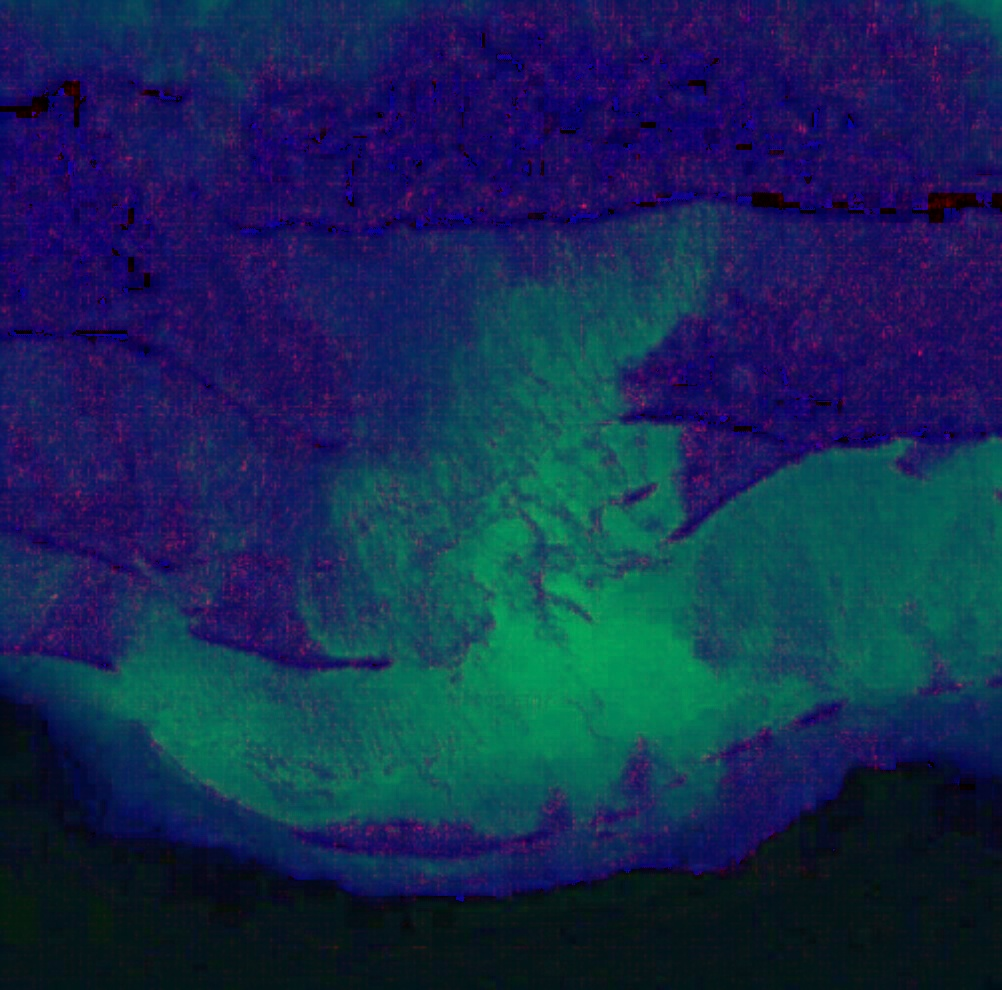rip_current: (262, 167, 786, 803)
